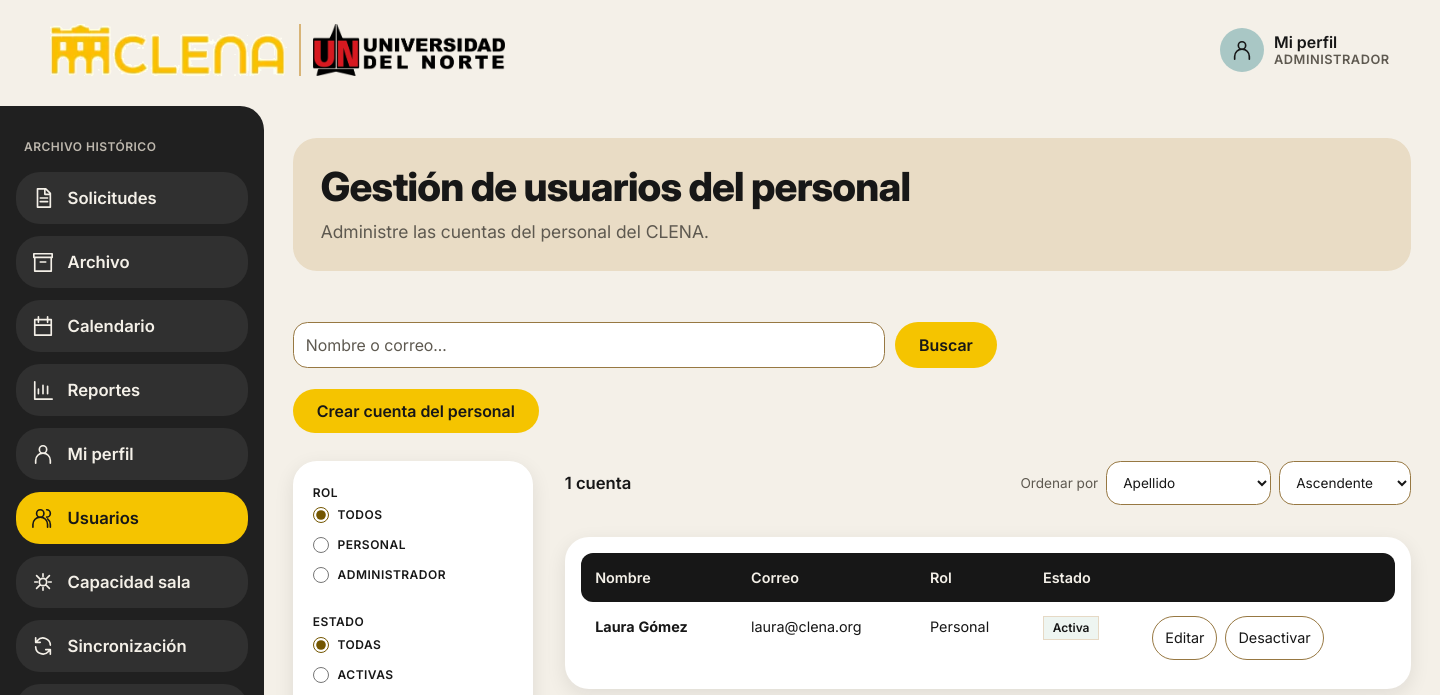
Test case: StaffUsersPage (HU-05) › edits the names and email, never the role
Click the button with aria-label "Editar la cuenta de Laura Gómez" at (1185, 638), box [1152, 616, 1218, 660]
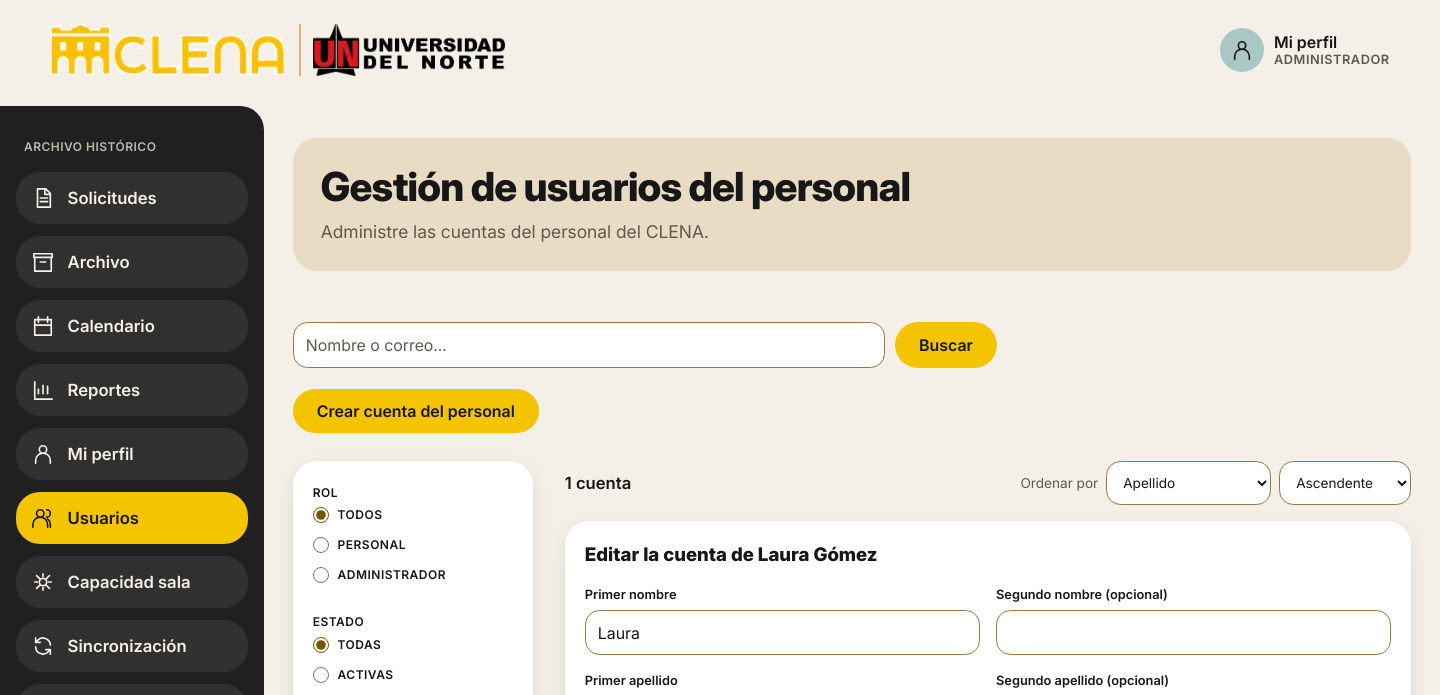
Result: the field labelled "Primer nombre" holds "Laura"
Replace the text in the field labelled "Primer nombre" with "Lucía" at (782, 633), box [585, 610, 980, 655]
(page scrolled)
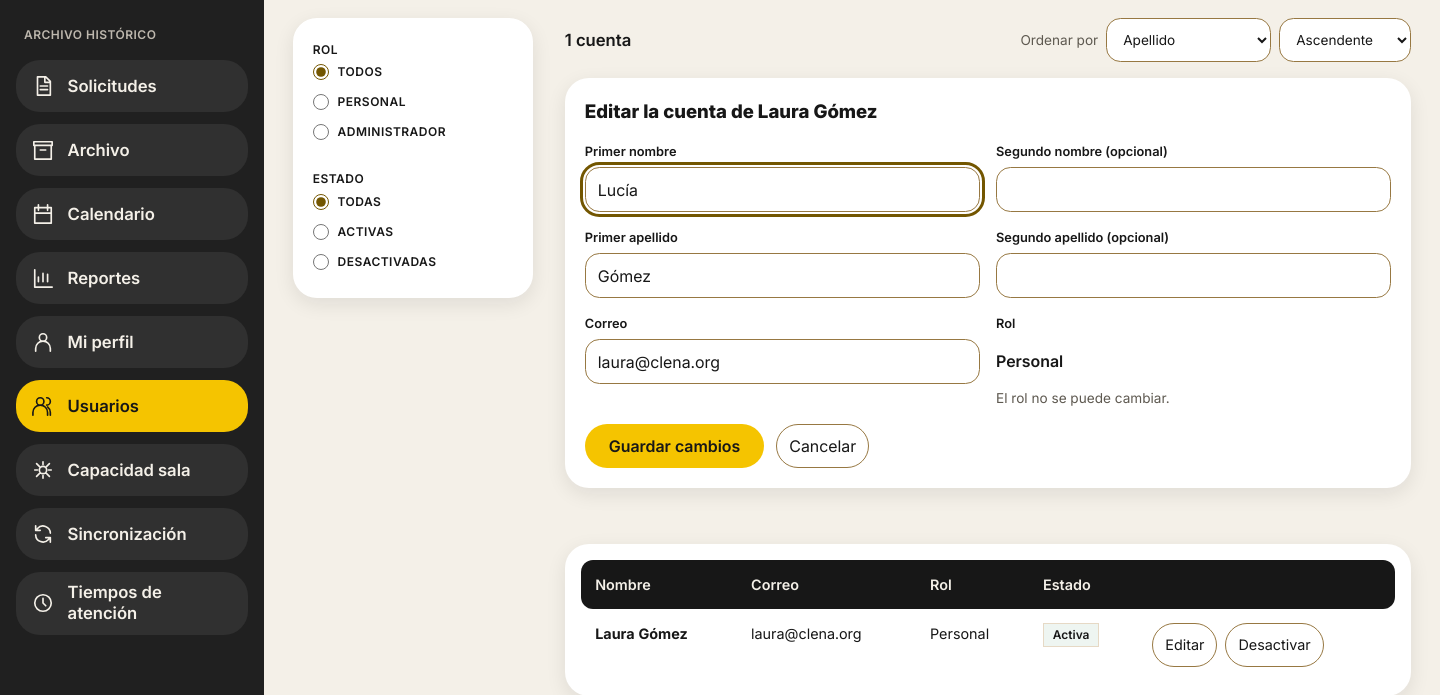
Click the button "Guardar cambios" at (674, 446), box [585, 424, 764, 468]
(page scrolled)
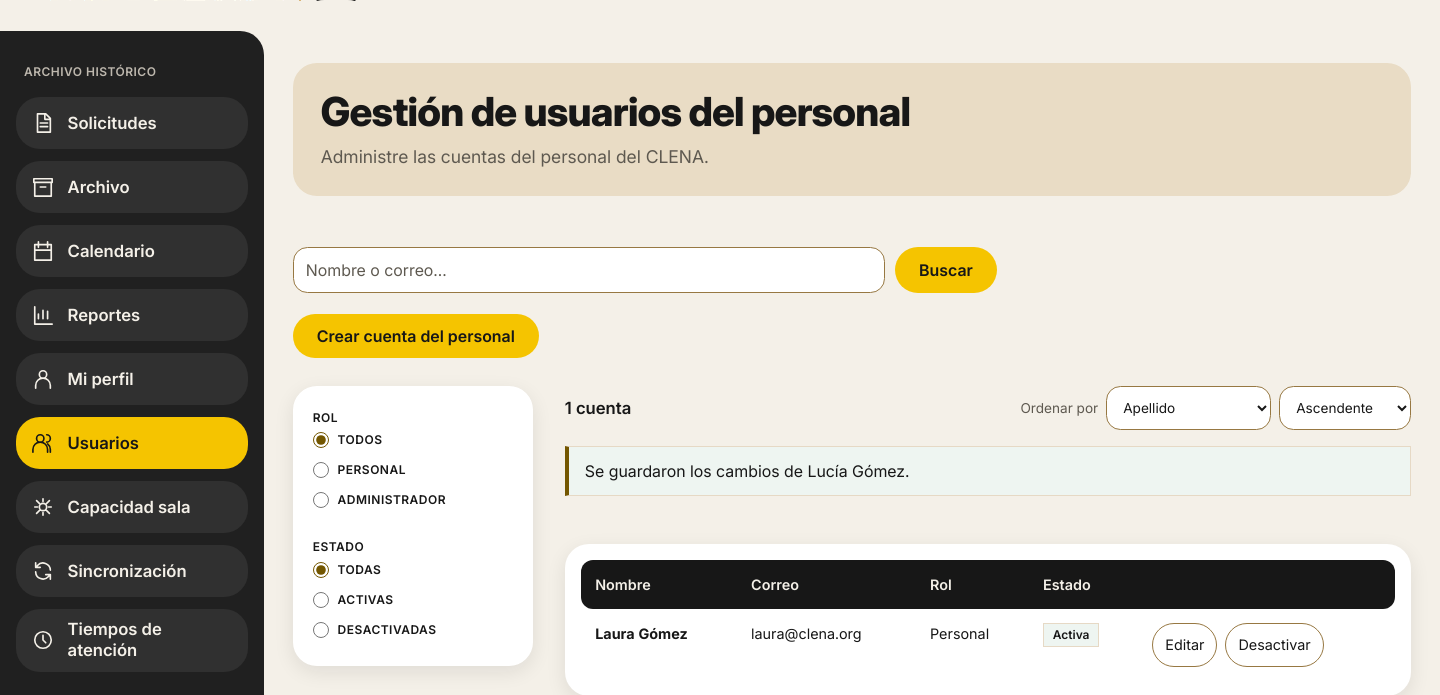
Result: the text "Se guardaron los cambios de Lucía Gómez." is shown at [565, 446, 1411, 496]
